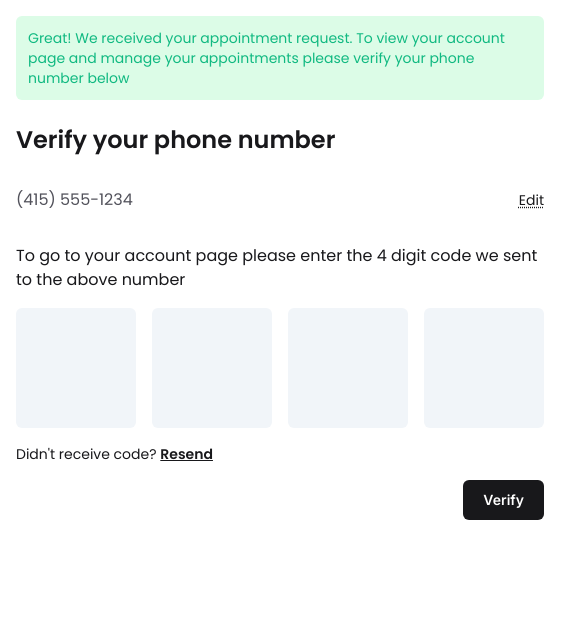
Test: VerifyPhoneNumber › Phone Number Editing › should cancel editing and restore original number
Step 1. Click the button "Edit" → point(531, 200), box [519,190,544,210]
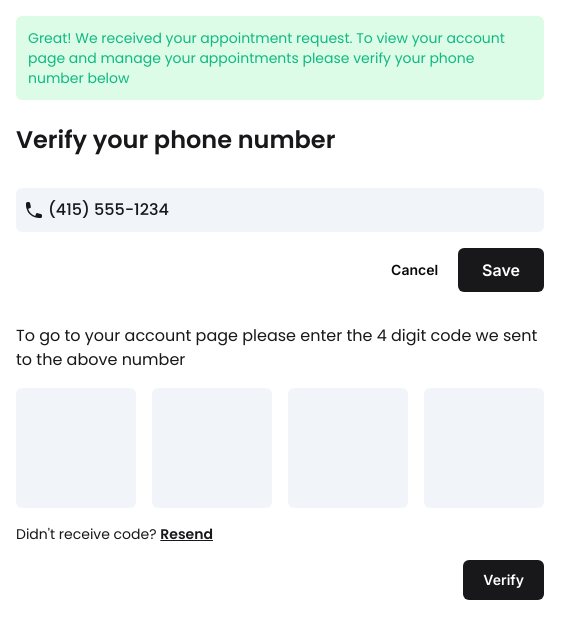
Step 2. Replace the text in the field with placeholder "Enter your phone number" with "9876543210" → point(280, 210), box [16,188,544,232]
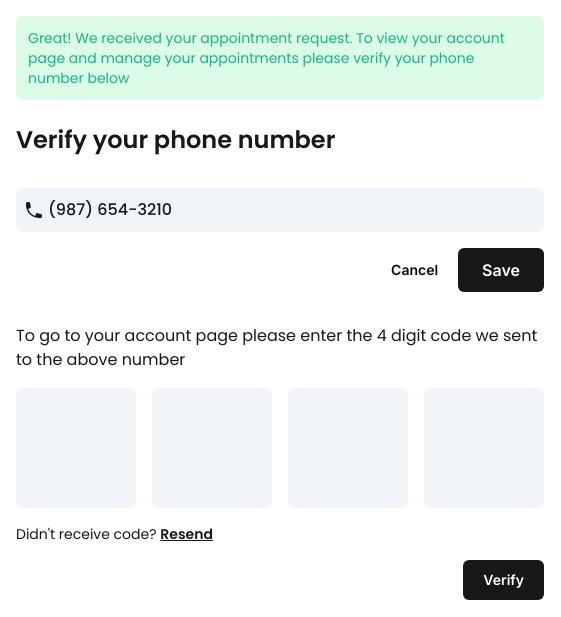
Step 3. Click the button "Cancel" → point(415, 270), box [379,248,450,292]
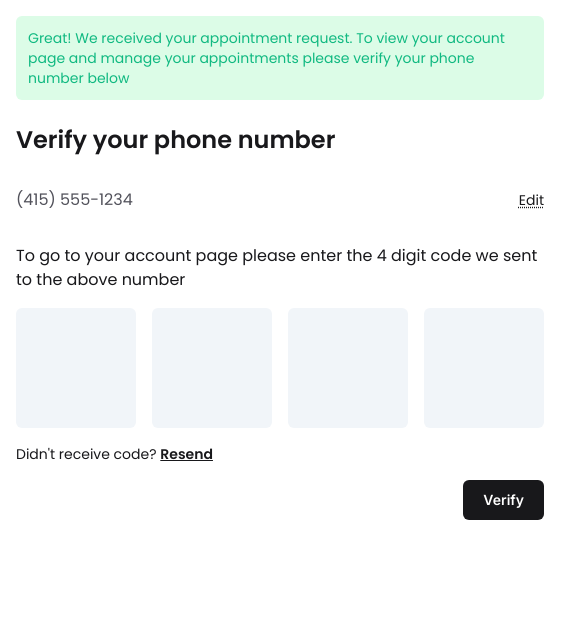
Expected: the text "(415) 555-1234" is shown, [16,188,133,212]
